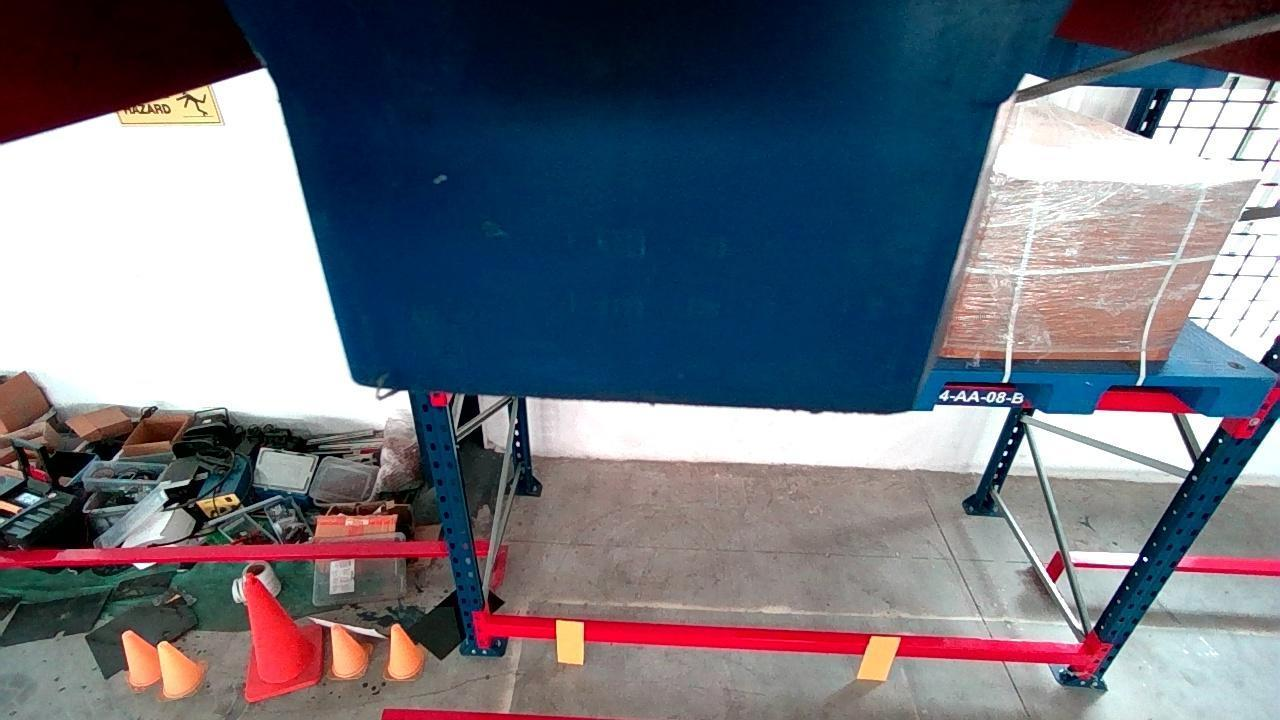h_rack: (487, 614, 1090, 663)
orange_strip: (857, 637, 902, 682), (558, 621, 583, 666)
small_pallet: (909, 373, 1278, 417)
